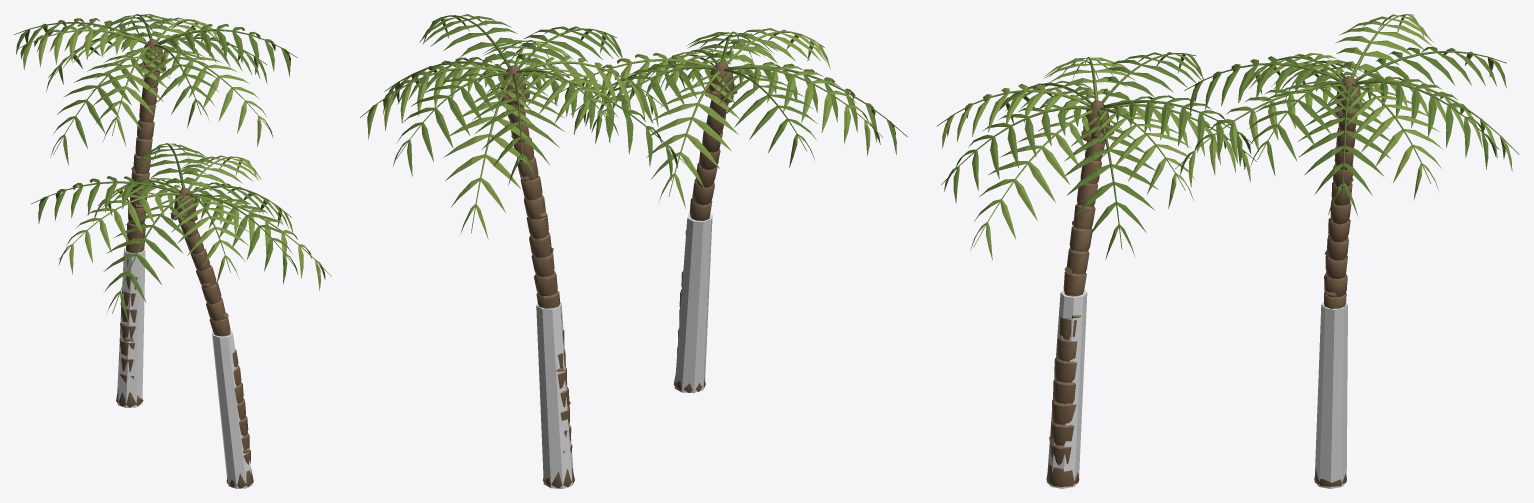
The picture shows the model from 3 angles, left to right: view 1: azimuth 30°, elevation 25°; view 2: azimuth 150°, elevation 25°; view 3: azimuth 270°, elevation 25°; orthographic projection. The views are drawn at different scales.
Parts seen in each view (by area): view 1: T12_a_leaves, T12_b_leaves, T12_a_trunk, T12_b_trunk, col_b_trunk, col_a_trunk; view 2: T12_a_leaves, T12_b_leaves, T12_a_trunk, col_b_trunk, col_a_trunk, T12_b_trunk; view 3: T12_a_leaves, T12_b_leaves, T12_b_trunk, col_a_trunk, T12_a_trunk, col_b_trunk.
Part boxes in pixels (<box>): T12_a_leaves: <box>14,14,297,165</box>; T12_b_leaves: <box>31,143,331,321</box>; T12_a_trunk: <box>116,39,165,407</box>; T12_b_trunk: <box>170,187,253,488</box>; col_b_trunk: <box>212,330,252,488</box>; col_a_trunk: <box>117,247,145,407</box>; T12_a_leaves: <box>360,14,684,239</box>; T12_b_leaves: <box>561,28,907,208</box>; T12_a_trunk: <box>497,65,574,488</box>; col_b_trunk: <box>674,213,712,393</box>; col_a_trunk: <box>536,302,573,488</box>; T12_b_trunk: <box>673,61,737,392</box>; T12_a_leaves: <box>1175,14,1519,215</box>; T12_b_leaves: <box>936,52,1256,260</box>; T12_b_trunk: <box>1046,100,1114,486</box>; col_a_trunk: <box>1314,302,1347,488</box>; T12_a_trunk: <box>1314,76,1363,486</box>; col_b_trunk: <box>1047,289,1087,488</box>.
Bounding box in the file's own units: 6.59 × 7.26 × 8.71.
